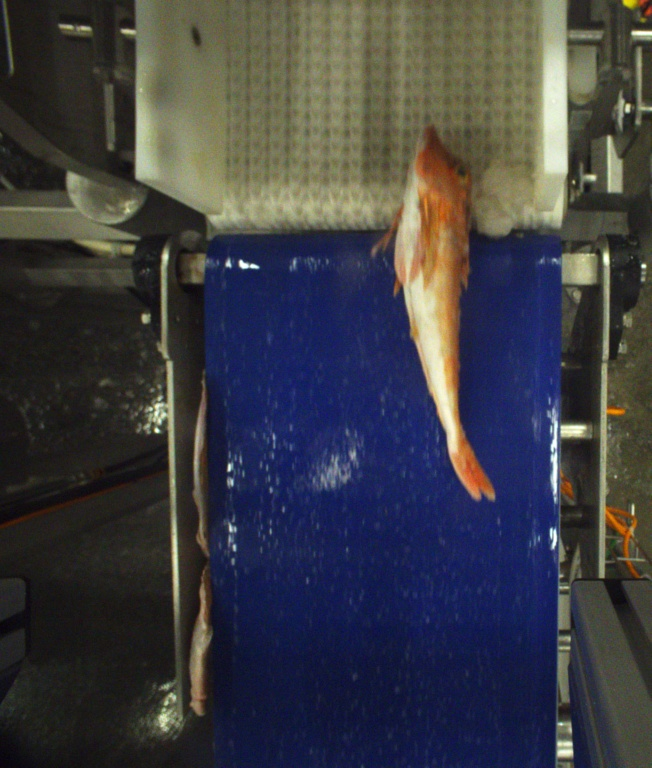GUU: (387, 125, 493, 502)
